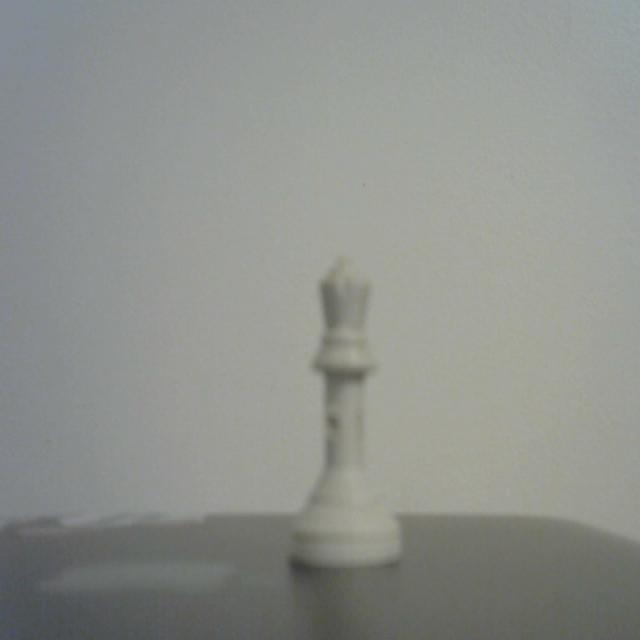white-queen: (281, 242, 405, 574)
